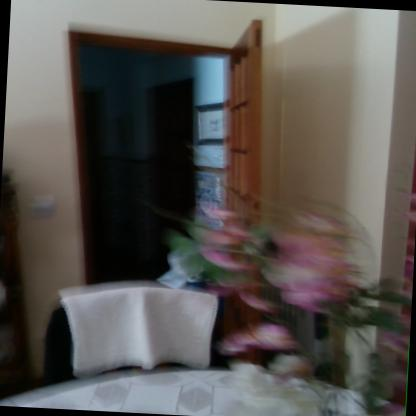open: (55, 5, 278, 344)
